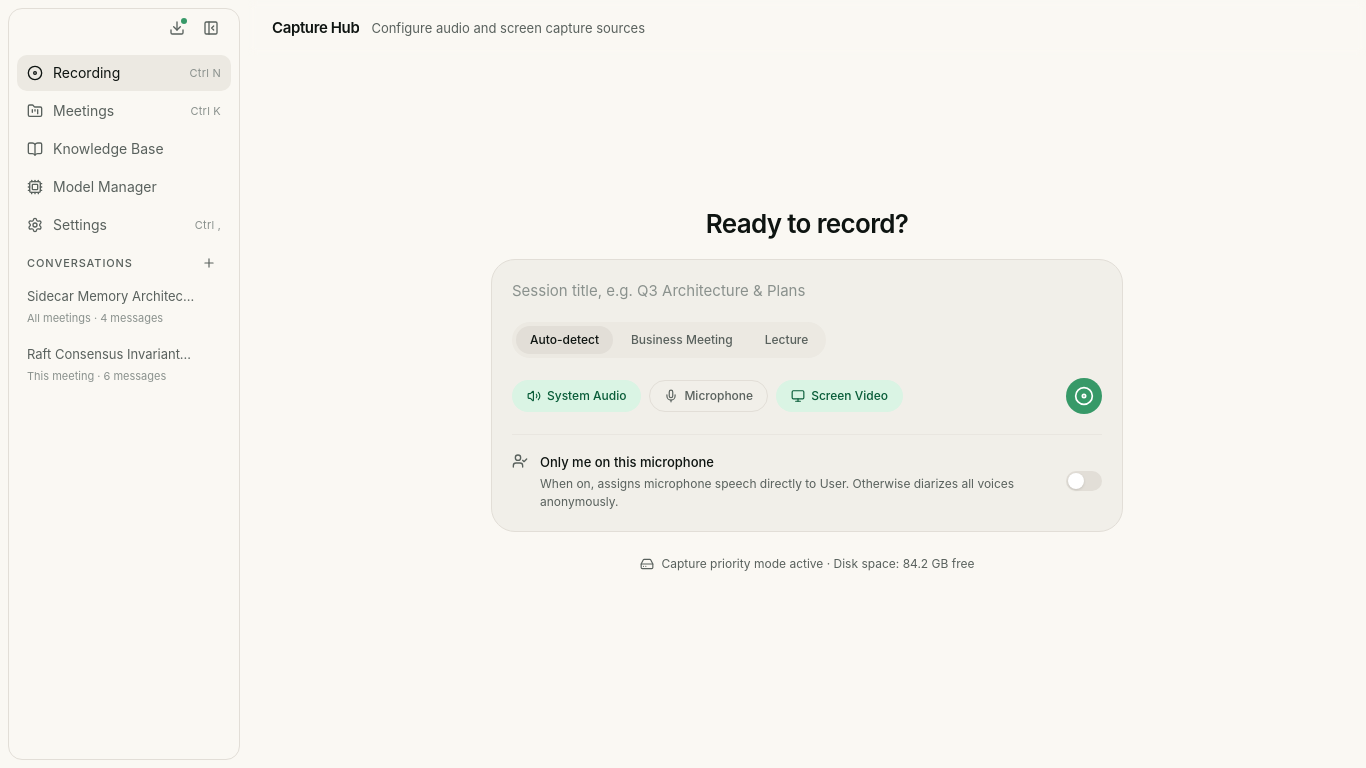
Model downloads › stacks several running downloads, each with its own progress, instead of replacing one another
The width and height of the screenshot is (1366, 768).
Click the button named "Downloads" at (177, 28), box [161,12,193,44]
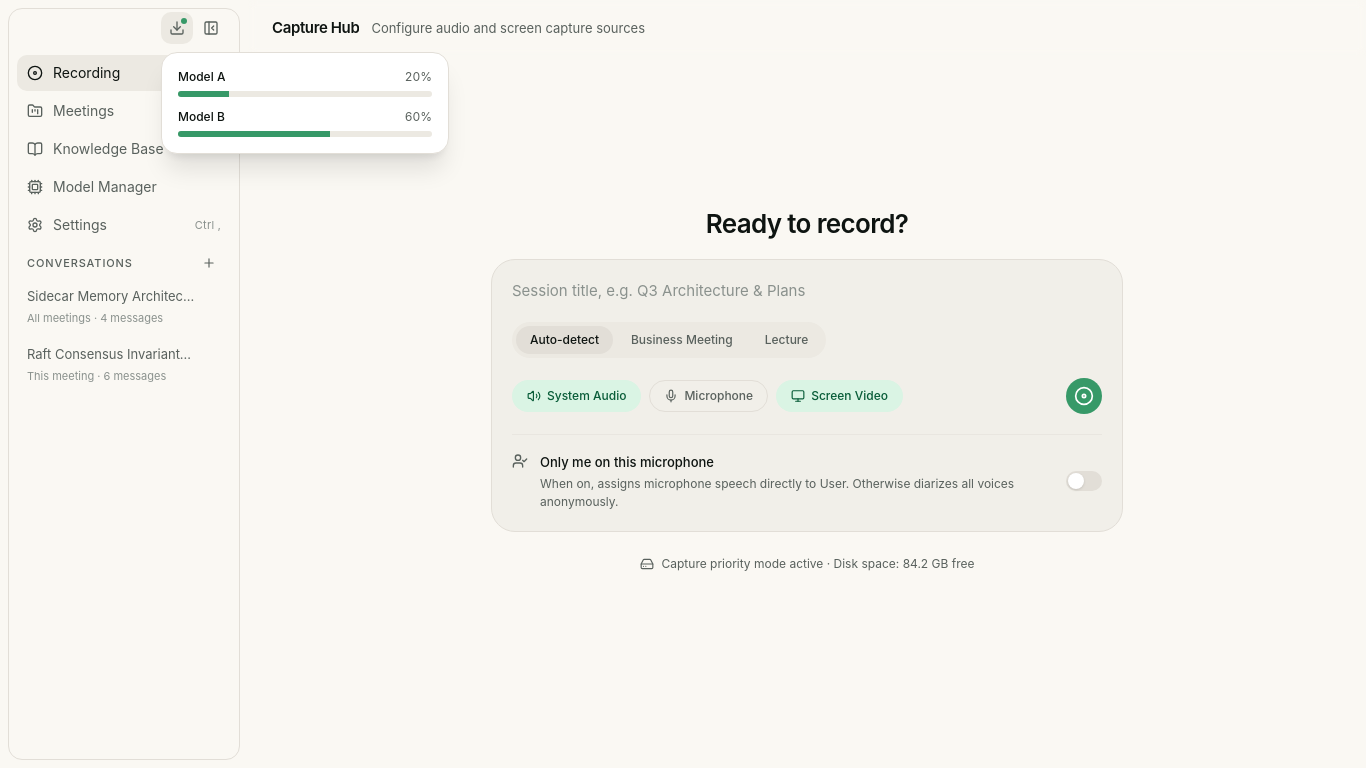
Expected: the text "Model A" is shown, [178,69,225,85]
Expected: the text "20%" is shown, [405,69,432,85]
Expected: the text "Model B" is shown, [178,109,225,125]
